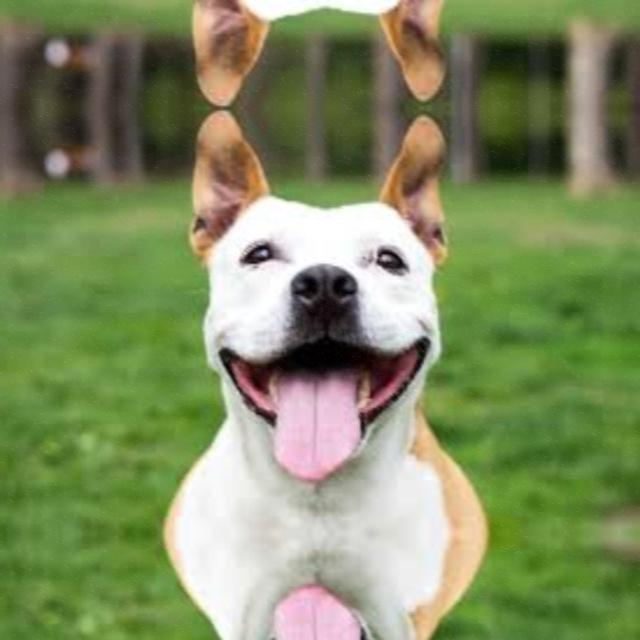dog: (117, 107, 487, 533), (117, 0, 487, 107), (117, 533, 487, 640)
